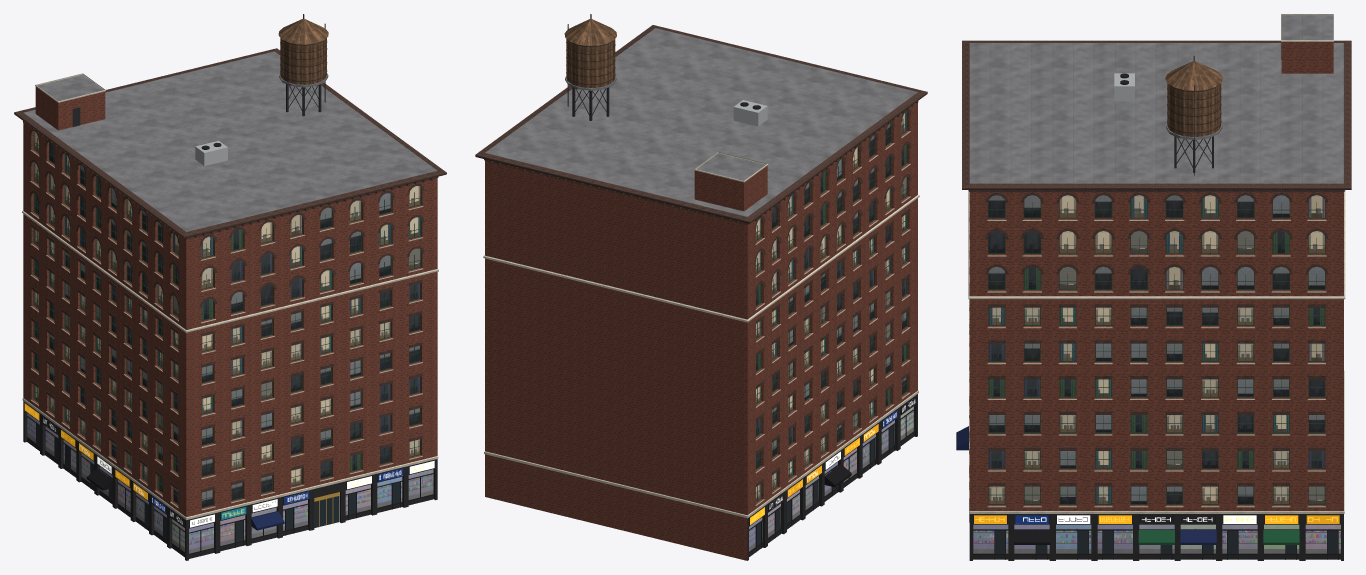
Rendered from hd13_romanesque_warehouse.gltf.
3 renders of one model, left to right at view 1: azimuth 30°, elevation 25°; view 2: azimuth 150°, elevation 25°; view 3: azimuth 270°, elevation 25°, orthographic. The views are drawn at different scales.
Visible parts, largest first — view 1: hd13_romanesque_warehouse_LOD0; view 2: hd13_romanesque_warehouse_LOD0; view 3: hd13_romanesque_warehouse_LOD0.
Boxes of the visible parts, x1,y1,x2,y2 form: hd13_romanesque_warehouse_LOD0: [14, 14, 446, 560]; hd13_romanesque_warehouse_LOD0: [475, 14, 927, 560]; hd13_romanesque_warehouse_LOD0: [956, 14, 1351, 560].
Size of what is drawn, in the model's own units: 34.6 by 51.45 by 38.05.
20 materials, 9 textured.
